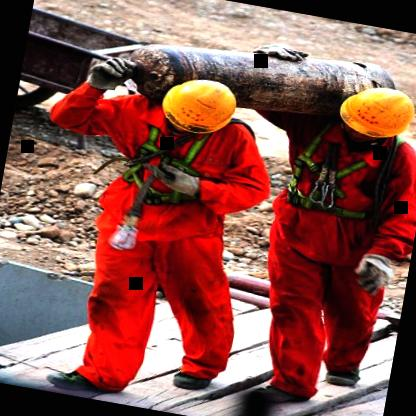helmet: (157, 71, 241, 138), (333, 77, 416, 143)
